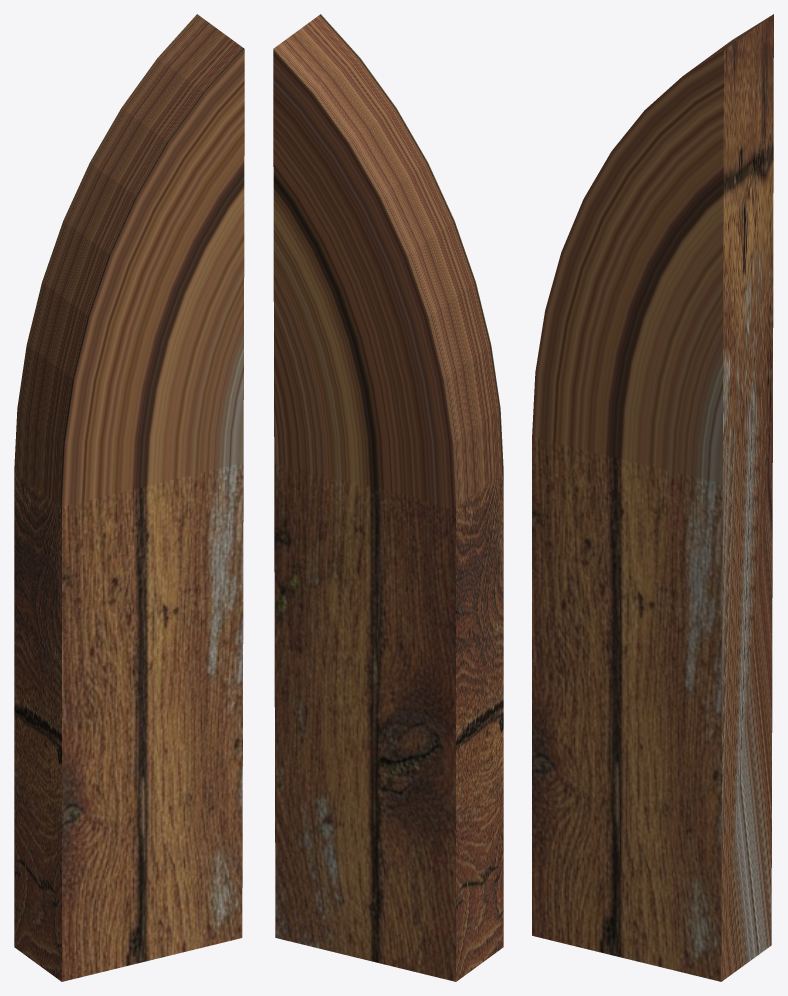
The model's file is PuertaCorredizaBisagra .obj.
3 views of the same model, side by side, from view 1: azimuth 30°, elevation 25°; view 2: azimuth 150°, elevation 25°; view 3: azimuth 330°, elevation 25° (orthographic). The views are drawn at different scales.
Parts seen in each view (by area): view 1: Cube.002_Material; view 2: Cube.002_Material; view 3: Cube.002_Material.
Boxes of the visible parts, <box> form: Cube.002_Material: <box>14,14,244,981</box>; Cube.002_Material: <box>273,14,503,981</box>; Cube.002_Material: <box>532,14,773,981</box>.
Bounding box in the file's own units: 4.44 × 20.58 × 2.
Materials: 1 (1 with a texture image).
